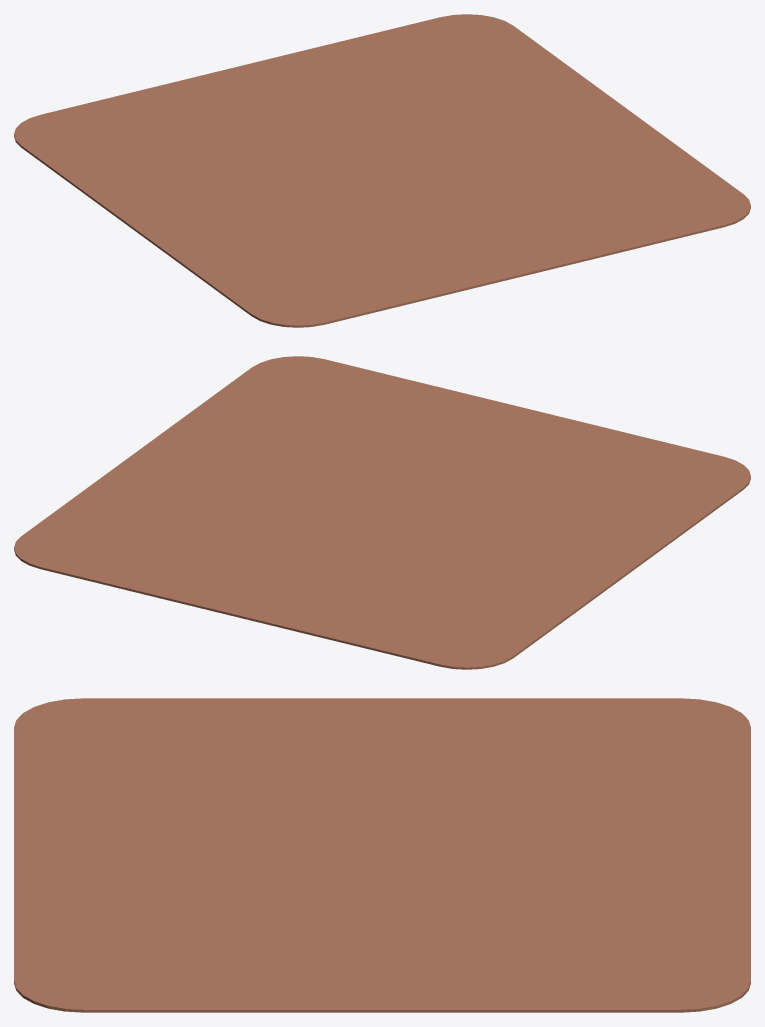
3 views of the same model, one above another, from view 1: azimuth 30°, elevation 25°; view 2: azimuth 150°, elevation 25°; view 3: azimuth 270°, elevation 25° (orthographic). The views are drawn at different scales.
Visible parts, largest first — view 1: COM-02 Floor Surface; view 2: COM-02 Floor Surface; view 3: COM-02 Floor Surface.
Boxes of the visible parts, left/top/right/bottom form: COM-02 Floor Surface: left=14, top=14, right=750, bottom=327; COM-02 Floor Surface: left=14, top=356, right=750, bottom=669; COM-02 Floor Surface: left=14, top=698, right=750, bottom=1012.
Size of the model in its own units: 192 by 0.8 by 192.
